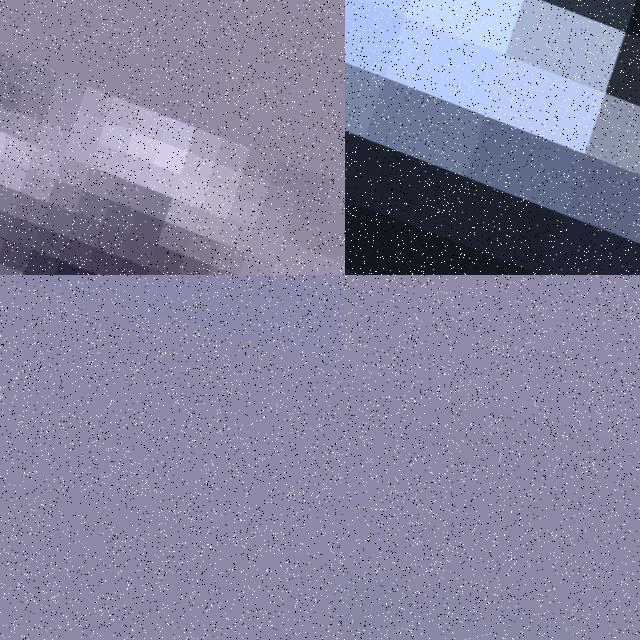0: (0, 0, 345, 275)
drone: (345, 0, 640, 275)
